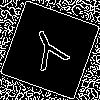Y: (25, 25, 75, 80)
